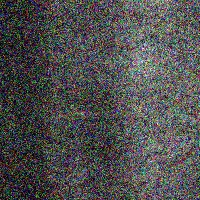crazing: (4, 128, 113, 190), (46, 17, 190, 54)
